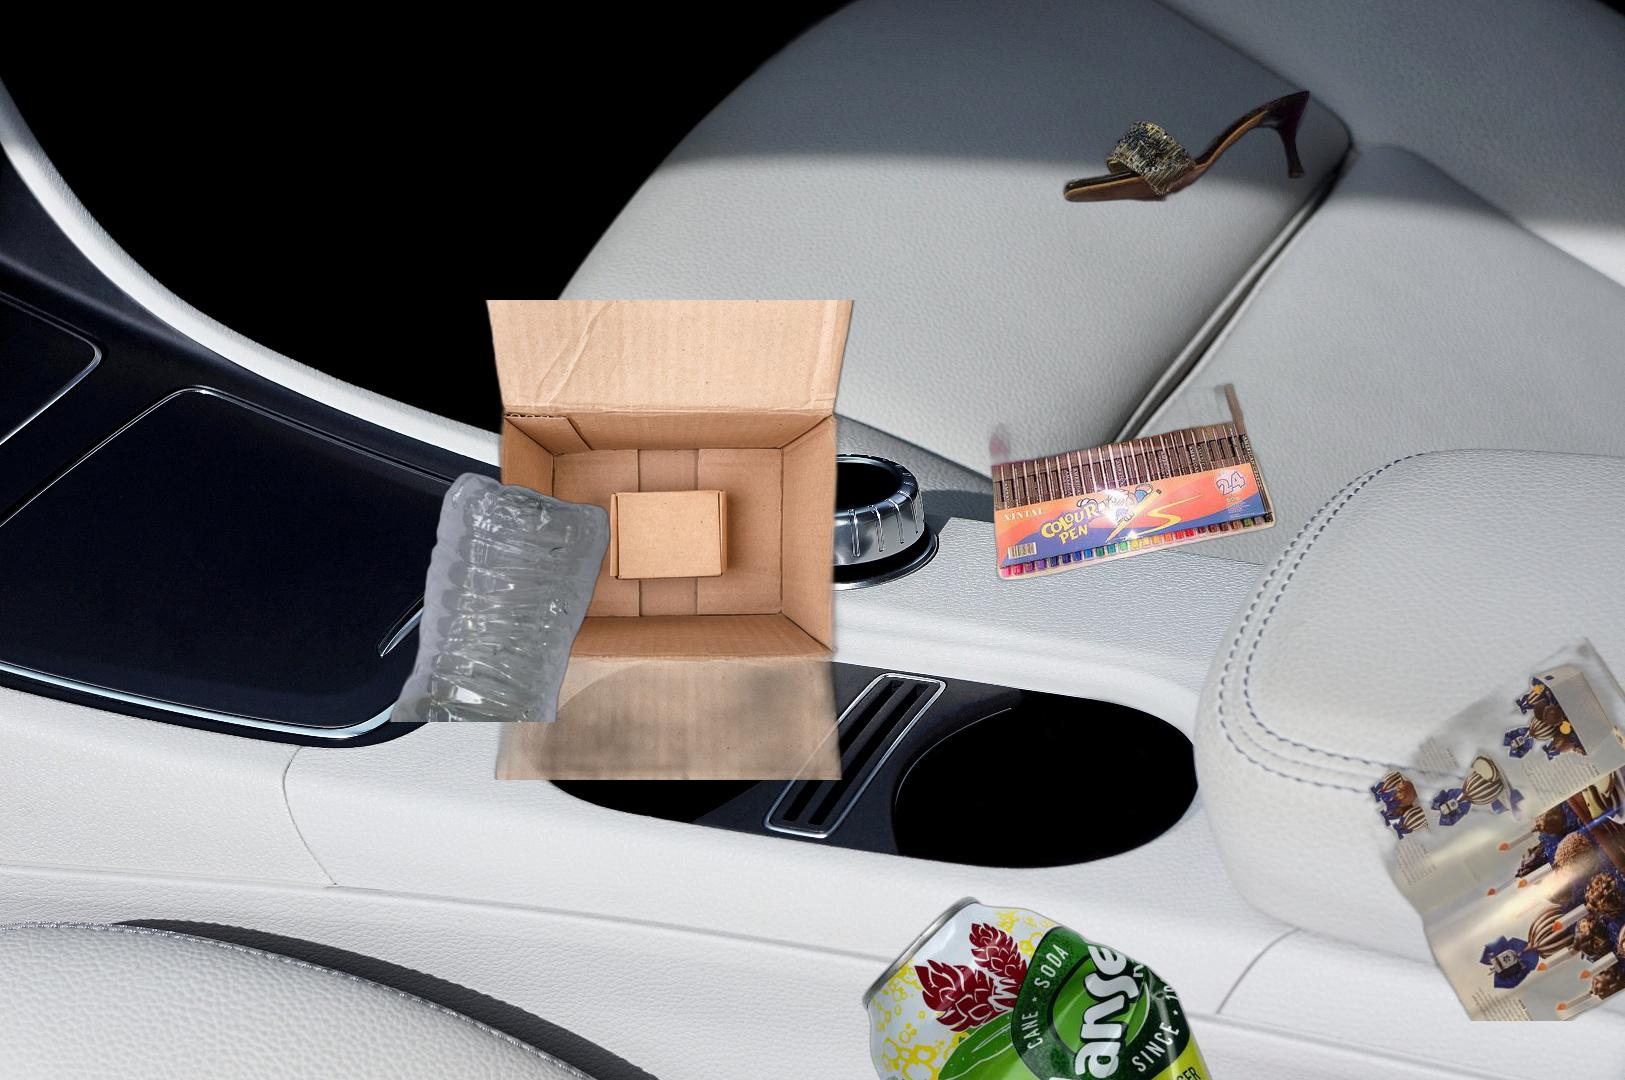metal-cans: (860, 894, 1224, 1080)
paper: (1341, 636, 1625, 1021)
penholder: (985, 339, 1280, 583)
plastic-bottles: (385, 470, 615, 722)
shoes: (1062, 87, 1313, 206)
trashbox-cardboard: (339, 300, 992, 780)
